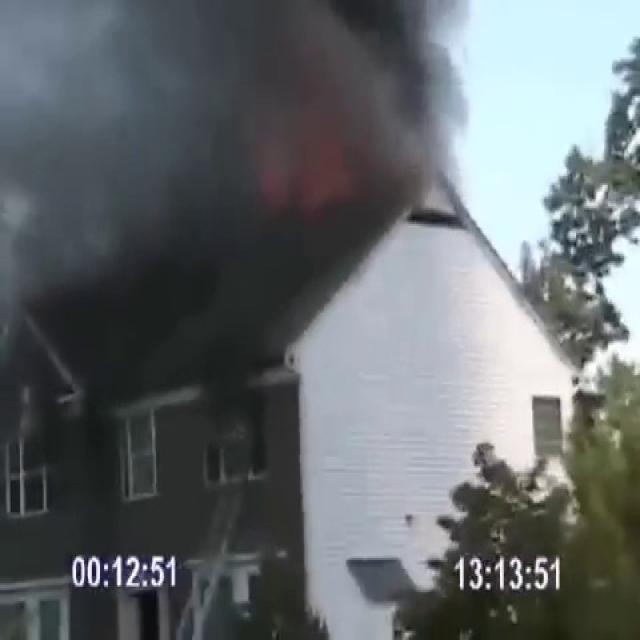Smoke: (4, 0, 483, 260)
